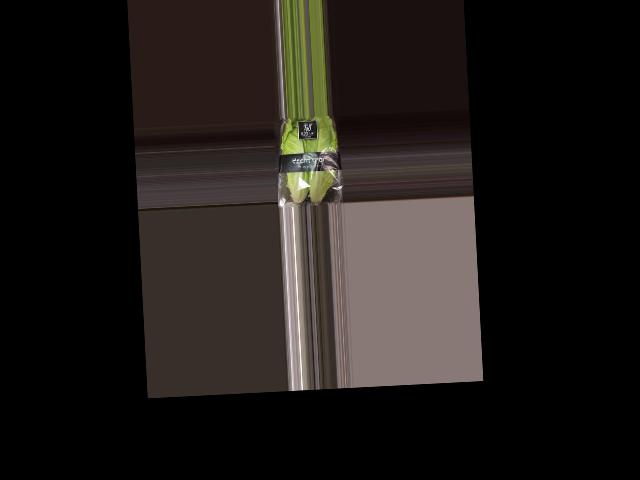lettuce: (274, 116, 339, 208)
